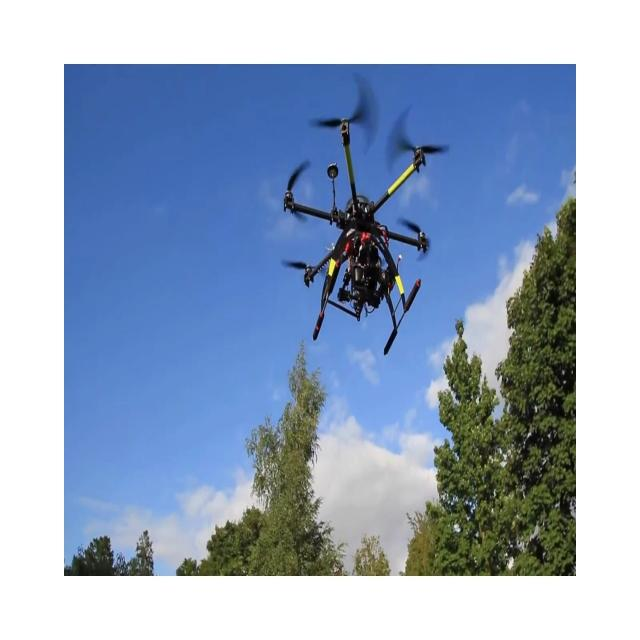drone: (281, 75, 449, 356)
